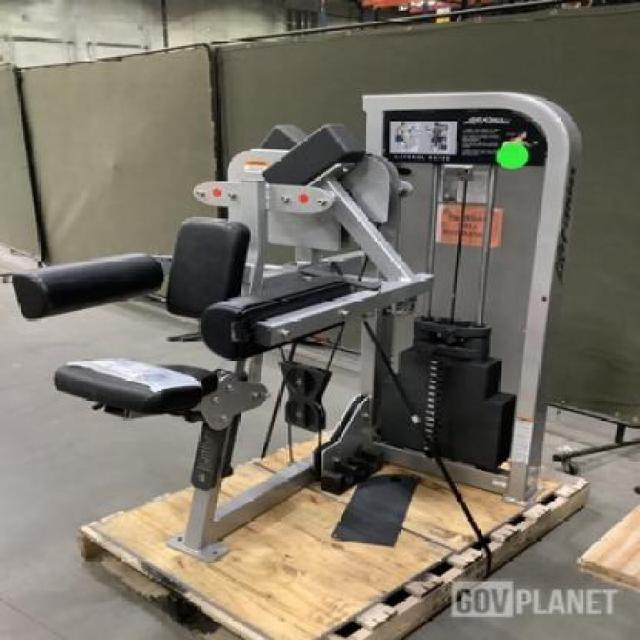lateral raises machine: (14, 122, 583, 563)
